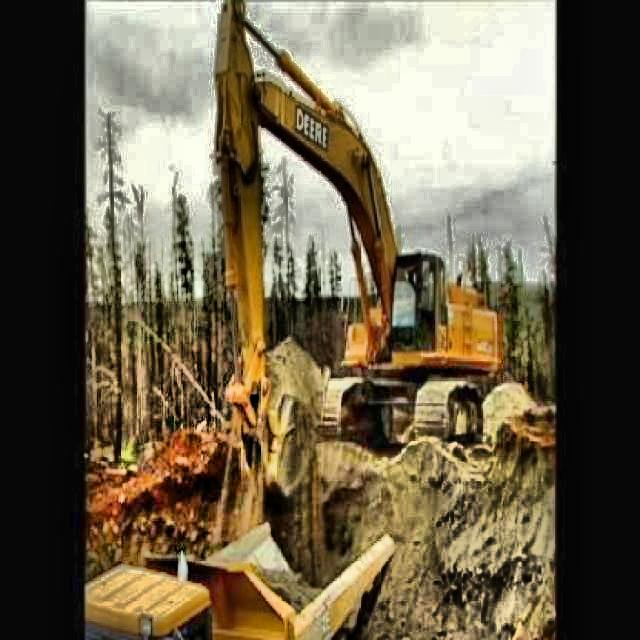dump_truck: (84, 524, 397, 640)
excavator: (190, 0, 507, 511)
